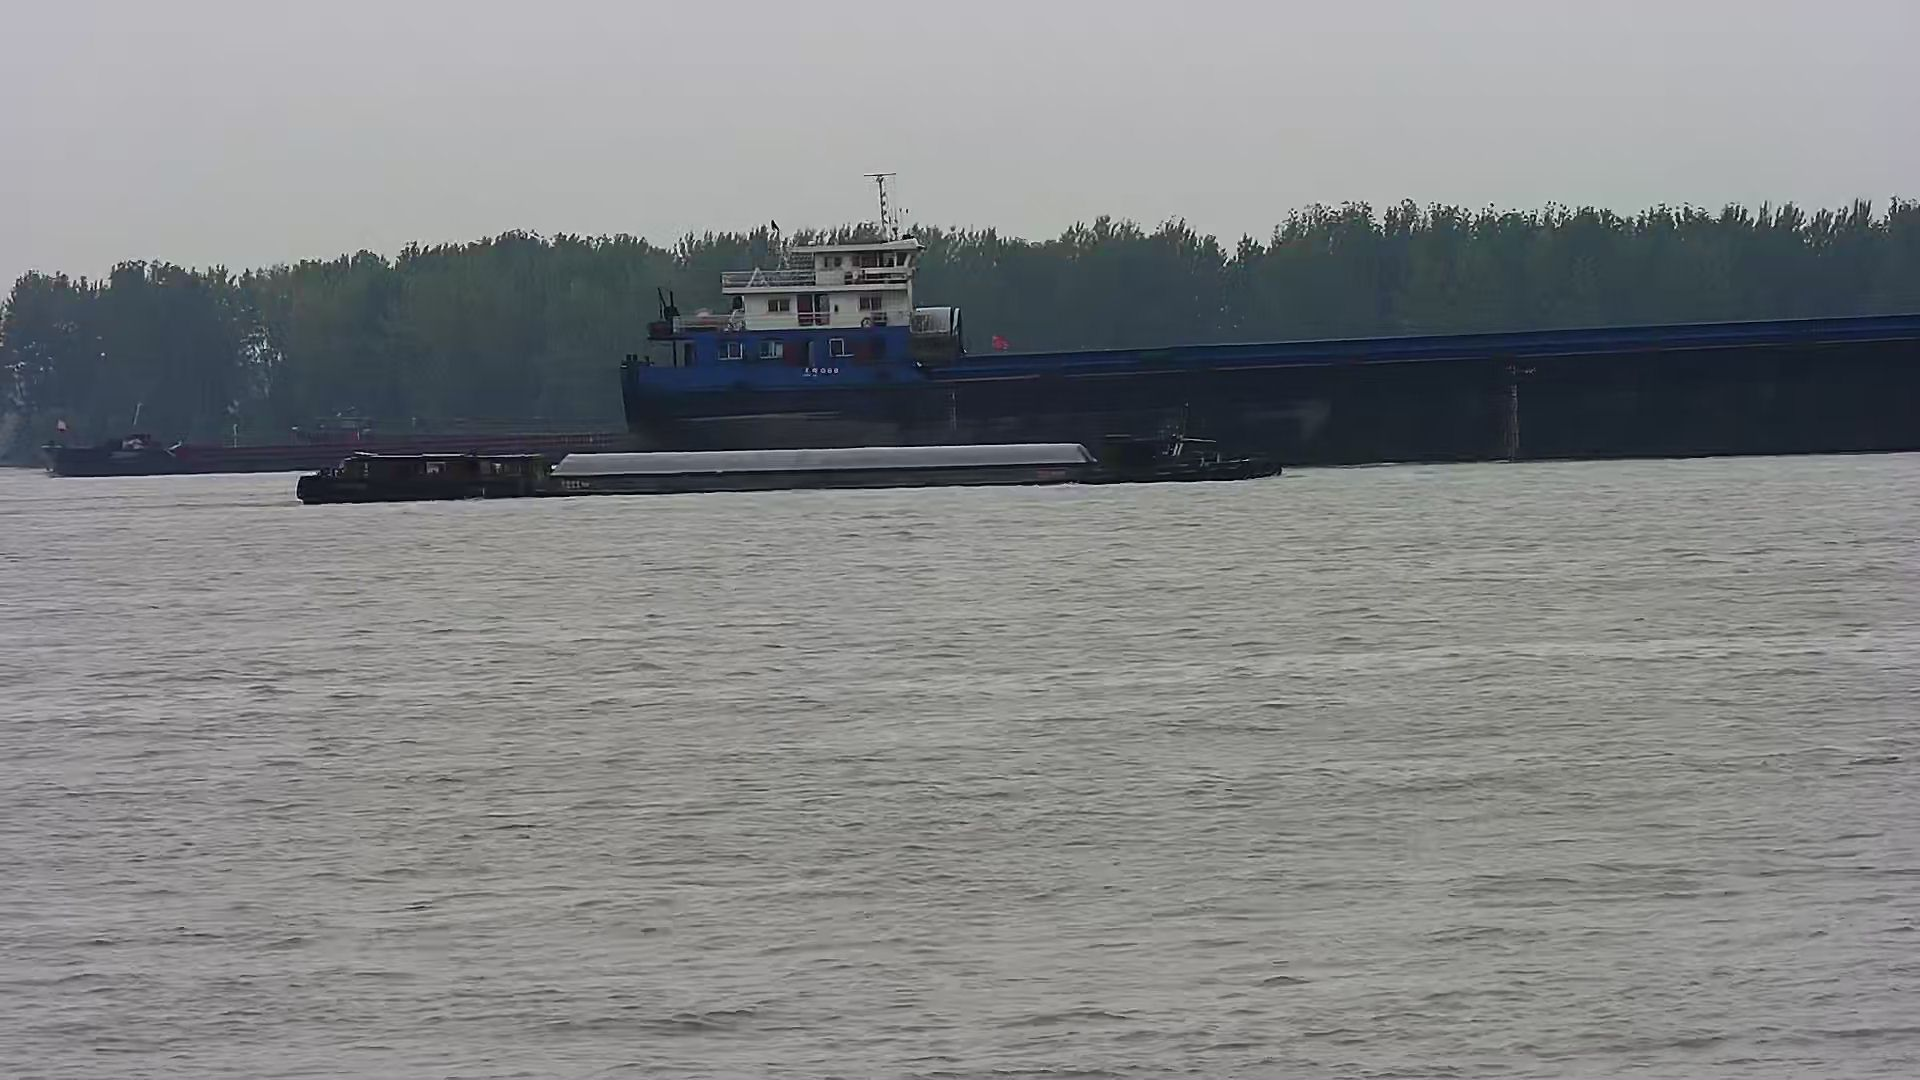ship: (620, 220, 1920, 467), (298, 433, 1284, 504), (36, 407, 632, 473)
